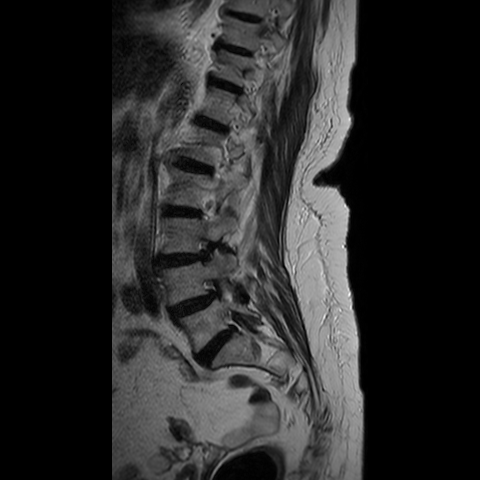RFS2: (190, 271, 231, 317)
RFS3: (187, 229, 227, 275)
